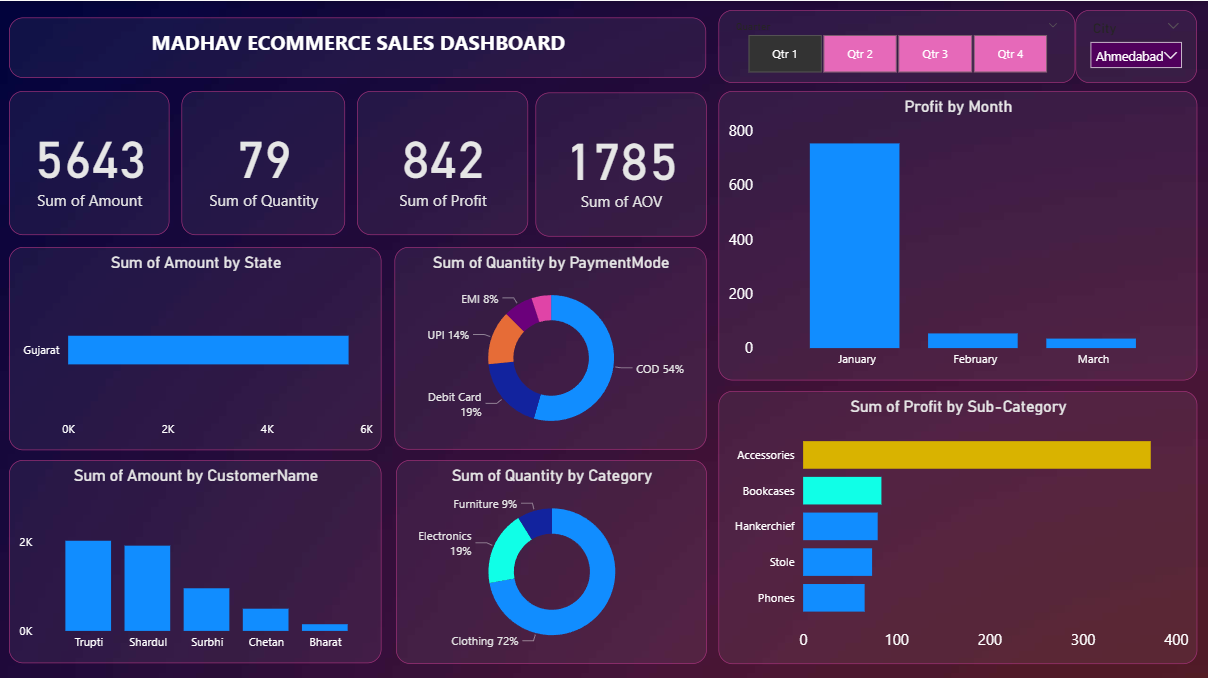

This screenshot's page, from the dashboard's own definition file:
{"tool":"powerbi","page":{"name":"Page 1","canvas":[1280,720],"ordinal":0},"visuals":[{"type":"textbox","box":[9.4,17,738.9,64.3],"z":0},{"type":"columnChart","title":"Profit by Month","fields":{"Y":["Sum(Details.Profit)"],"Category":["Orders.Order Date.Variation.Date Hierarchy.Month"]},"box":[761.3,95.4,507,306.8],"z":1000},{"type":"clusteredBarChart","fields":{"Category":["Details.Sub-Category"],"Y":["Sum(Details.Profit)"]},"box":[761.3,413.2,507,289.3],"z":2000},{"type":"donutChart","fields":{"Category":["Details.Category"],"Y":["Sum(Details.Quantity)"]},"box":[419.6,486.4,329,216.2],"z":3000},{"type":"donutChart","fields":{"Category":["Details.PaymentMode","Details.Category"],"Y":["Sum(Details.Quantity)"]},"box":[418,260.7,330.6,214.6],"z":4000},{"type":"card","fields":{"Values":["Sum(Details.Amount)"]},"box":[9.5,95.4,170.1,152.6],"z":5000},{"type":"card","fields":{"Values":["Sum(Details.Quantity)"]},"box":[192.3,95.4,173.2,152.6],"z":6000},{"type":"card","fields":{"Values":["Sum(Details.Profit)"]},"box":[378.3,95.4,181.2,152.6],"z":7000},{"type":"card","fields":{"Values":["Sum(Details.AOV)"]},"box":[567.4,97,181.2,152.6],"z":8000},{"type":"clusteredBarChart","fields":{"Category":["Orders.State"],"Y":["Sum(Details.Amount)"]},"box":[9.4,260.8,395,215.4],"z":9000},{"type":"lineStackedColumnComboChart","fields":{"Category":["Orders.CustomerName"],"Y":["Sum(Details.Amount)"]},"box":[9.4,485.7,395,215.4],"z":10000},{"type":"slicer","fields":{"Values":["Orders.Order Date.Variation.Date Hierarchy.Quarter"]},"box":[761.6,9.4,378,77.5],"z":11000},{"type":"slicer","fields":{"Values":["Orders.City"]},"box":[1139.5,9.4,128.5,77.5],"z":12000}]}

Visuals, with their boxes in screenshot pixels (x1, y1, x2, y2), scaled from the page's 1280x720 canvas onto the 1208x678 screenshot:
textbox: (9,16,706,77)
"Profit by Month" columnChart: (718,90,1197,379)
clusteredBarChart - Details.Sub-Category x Sum(Details.Profit): (718,389,1197,662)
donutChart - Details.Category x Sum(Details.Quantity): (396,458,706,662)
donutChart - Details.PaymentMode x Details.Category: (394,245,706,448)
card - Sum(Details.Amount): (9,90,169,234)
card - Sum(Details.Quantity): (181,90,345,234)
card - Sum(Details.Profit): (357,90,528,234)
card - Sum(Details.AOV): (535,91,706,235)
clusteredBarChart - Orders.State x Sum(Details.Amount): (9,246,382,448)
lineStackedColumnComboChart - Orders.CustomerName x Sum(Details.Amount): (9,457,382,660)
slicer - Orders.Order Date.Variation.Date Hierarchy.Quarter: (719,9,1075,82)
slicer - Orders.City: (1075,9,1197,82)
